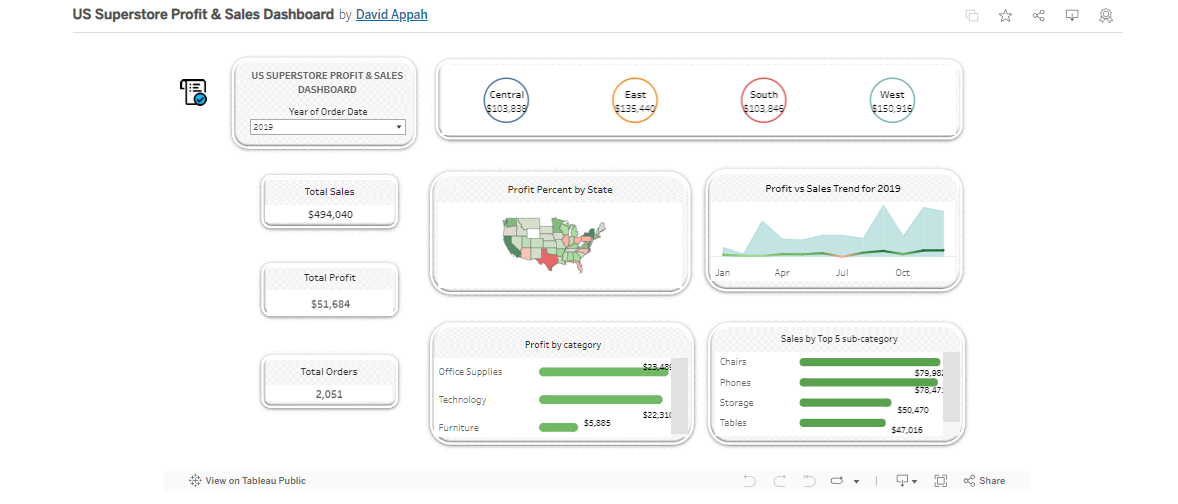

Layout of this report page (visuals, bound fields, positions):
{"tool":"tableau","page":{"name":"Executive Sales Dashboard","canvas":[1155,584],"ordinal":0},"visuals":[{"type":"image","param":"Image/Presentation1.png","box":[8,8,1139,568]},{"type":"text","box":[100,42,235,47]},{"type":"worksheet","title":"Sales by Region","mark":"Shape","cols":["Region"],"box":[371,42,685,94]},{"type":"filter","title":"Profit vs Sales Trend","param":"[Sample - Superstore].[yr:Order Date:ok]","box":[114,96,210,41]},{"type":"worksheet","title":"Profit vs Sales Trend","mark":"Automatic","rows":["Profit","Sales"],"cols":["Order Date"],"box":[729,191,326,140]},{"type":"worksheet","title":"Profit Percent by State","mark":"Automatic","box":[365,192,326,148]},{"type":"worksheet","title":"Total Sales","mark":"Automatic","box":[134,195,173,57]},{"type":"worksheet","title":"Total Profit","mark":"Automatic","box":[137,309,168,68]},{"type":"worksheet","title":"Sales by Top 5 sub-category","mark":"Line","rows":["Sub-Category"],"box":[735,392,326,145]},{"type":"worksheet","title":"Profit by category","mark":"Line","rows":["Category"],"box":[360,400,339,139]},{"type":"worksheet","title":"Total Orders","mark":"Automatic","box":[136,435,168,55]}]}

Visuals, with their boxes on the page's 1155x584 design canvas (x1, y1, x2, y2). These are canvas units, not pixel positions in the 1178x504 screenshot, which may show the page scaled, cropped or inside an application window:
image: select_region(8, 8, 1147, 576)
text: select_region(100, 42, 335, 89)
"Sales by Region" worksheet (Shape marks): select_region(371, 42, 1056, 136)
"Profit vs Sales Trend" filter: select_region(114, 96, 324, 137)
"Profit vs Sales Trend" worksheet: select_region(729, 191, 1055, 331)
"Profit Percent by State" worksheet: select_region(365, 192, 691, 340)
"Total Sales" worksheet: select_region(134, 195, 307, 252)
"Total Profit" worksheet: select_region(137, 309, 305, 377)
"Sales by Top 5 sub-category" worksheet (Line marks): select_region(735, 392, 1061, 537)
"Profit by category" worksheet (Line marks): select_region(360, 400, 699, 539)
"Total Orders" worksheet: select_region(136, 435, 304, 490)
